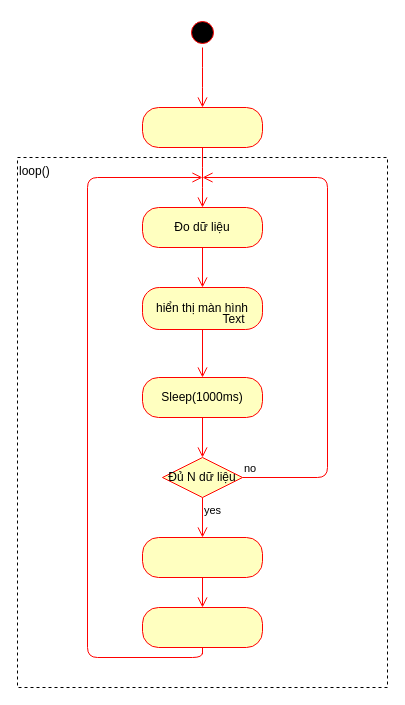
This 405x705 diagram has some shape labels left out. The shapes that lost their labels are listed below. From the top down, each one's box as (x1, y1, x2, y2) in pixels, then its label:
(142, 106, 262, 148): setup()
(142, 536, 262, 578): Tính trung bình
(142, 606, 262, 648): Gửi dữ liệu
